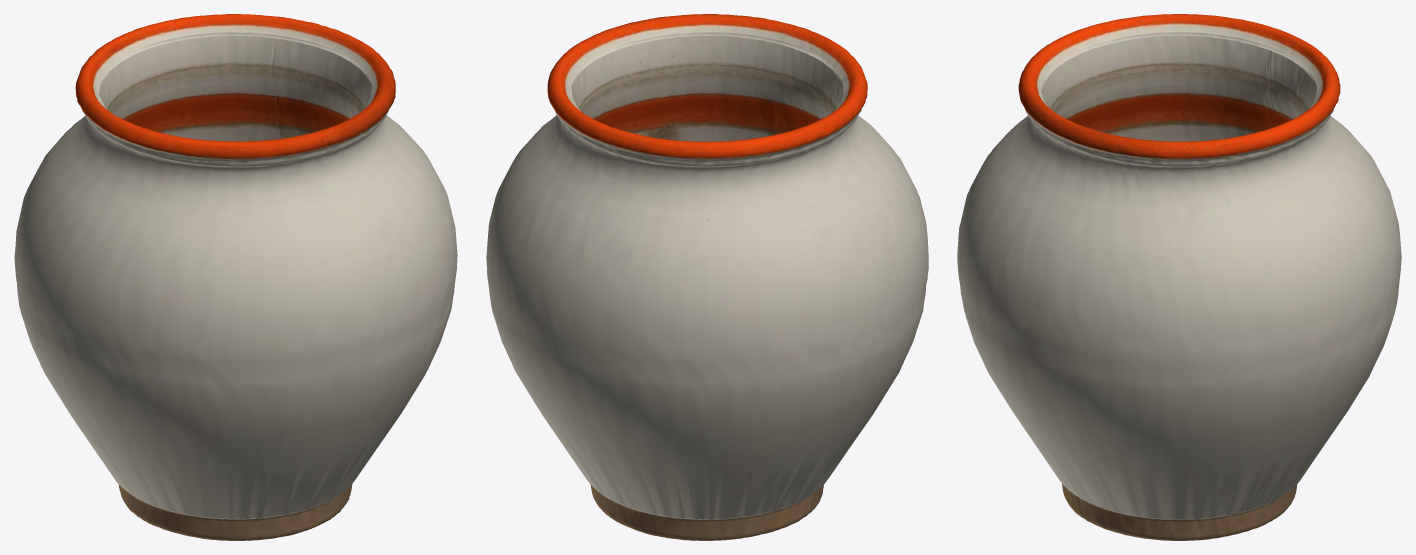
File: vessel.glb
3 renders of one model, left to right at view 1: azimuth 30°, elevation 25°; view 2: azimuth 150°, elevation 25°; view 3: azimuth 270°, elevation 25°, orthographic.
Visible parts, largest first — view 1: tripo_node_908662cd-dc33-48f8-8807-d736ab9dc6e6; view 2: tripo_node_908662cd-dc33-48f8-8807-d736ab9dc6e6; view 3: tripo_node_908662cd-dc33-48f8-8807-d736ab9dc6e6.
Boxes of the visible parts, bbox=[...] form: tripo_node_908662cd-dc33-48f8-8807-d736ab9dc6e6: bbox=[14, 14, 457, 540]; tripo_node_908662cd-dc33-48f8-8807-d736ab9dc6e6: bbox=[486, 14, 928, 540]; tripo_node_908662cd-dc33-48f8-8807-d736ab9dc6e6: bbox=[957, 14, 1401, 540].
Bounding box in the file's own units: 0.9628 × 1 × 0.9647.
1 material, 1 textured.
